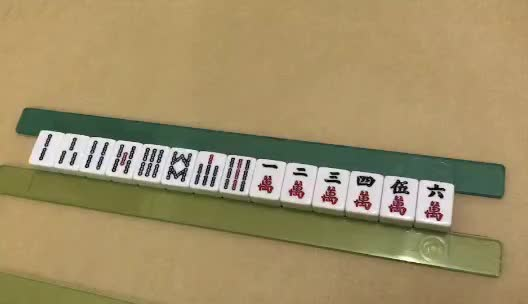1m: (255, 162, 279, 194)
2m: (286, 167, 309, 200)
2s: (35, 131, 54, 162)
3m: (320, 170, 343, 206)
3s: (58, 136, 79, 167)
4m: (353, 174, 376, 210)
4s: (84, 138, 110, 171)
5m: (387, 178, 411, 217)
5s: (110, 143, 136, 175)
6m: (422, 182, 446, 222)
6s: (136, 147, 164, 177)
7s: (194, 154, 219, 188)
8s: (166, 150, 193, 183)
9s: (225, 157, 251, 190)
